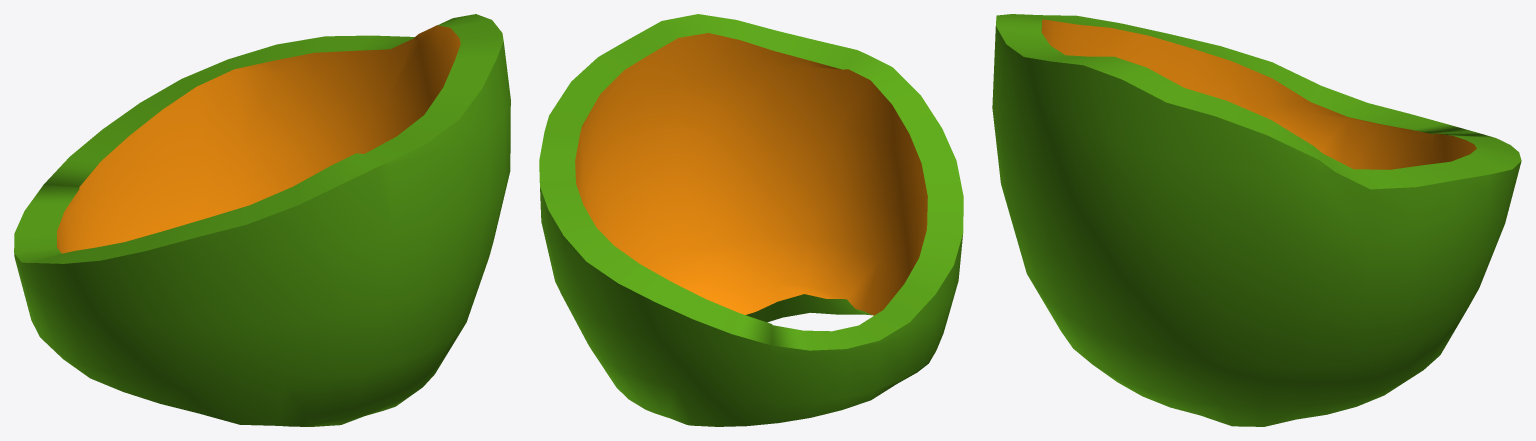
The model's file is GoodFruitBroken03.FBX.
The picture shows the model from 3 angles, left to right: view 1: azimuth 30°, elevation 25°; view 2: azimuth 150°, elevation 25°; view 3: azimuth 270°, elevation 25°; orthographic projection. The views are drawn at different scales.
Parts seen in each view (by area): view 1: GoodFruitBroken03; view 2: GoodFruitBroken03; view 3: GoodFruitBroken03.
Boxes of the visible parts, box(x1,y1,x2,y2) form: GoodFruitBroken03: box(14, 14, 510, 426); GoodFruitBroken03: box(539, 14, 963, 426); GoodFruitBroken03: box(992, 14, 1521, 426).
Bounding box in the file's own units: 8.69 × 6.71 × 8.49.
